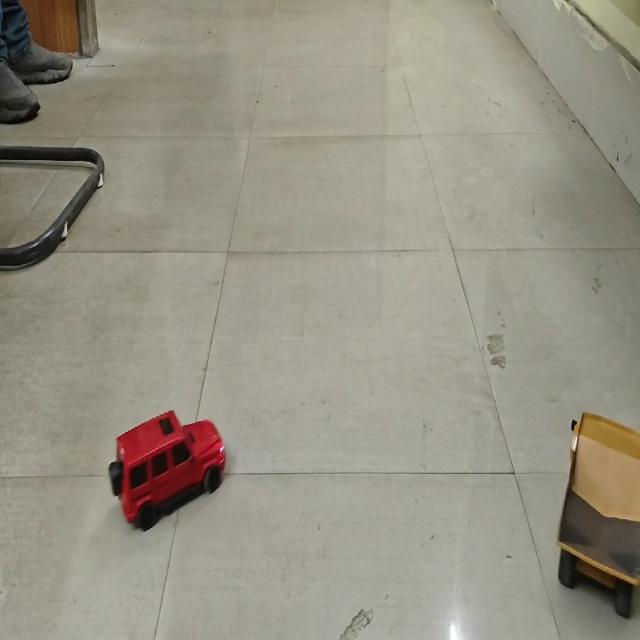dump_truck: (548, 390, 640, 614)
light_vehicle: (102, 408, 228, 530)
